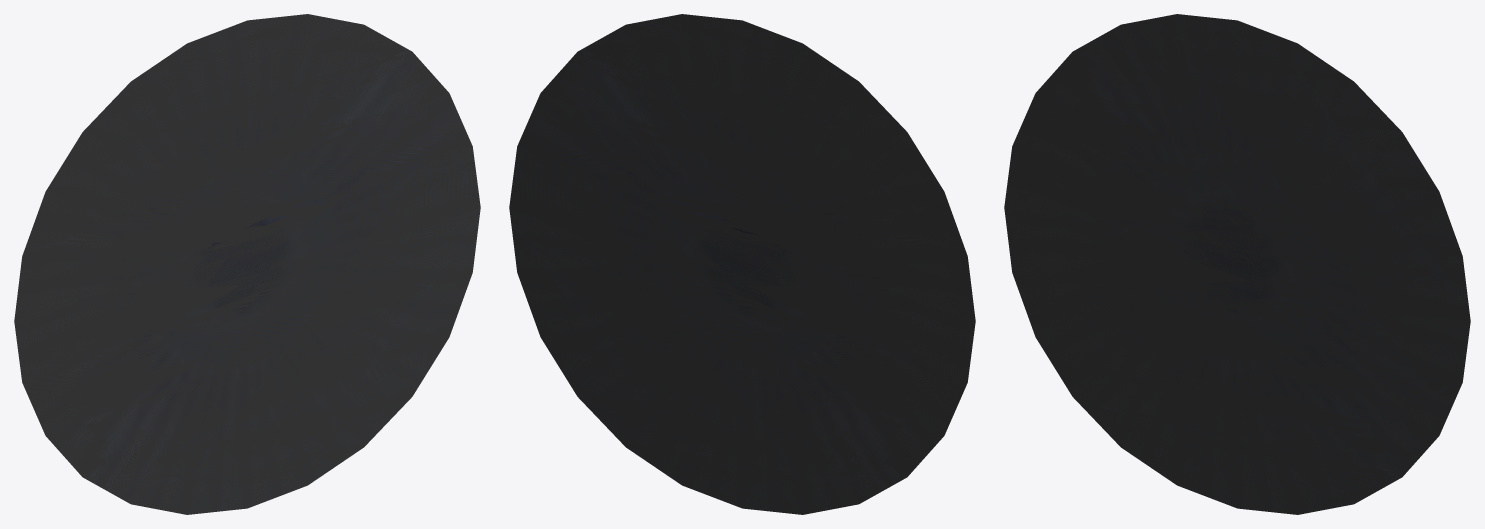
The model's file is fan.dae.
3 renders of one model, left to right at view 1: azimuth 30°, elevation 25°; view 2: azimuth 150°, elevation 25°; view 3: azimuth 330°, elevation 25°, orthographic.
Visible parts, largest first — view 1: SketchUp; view 2: SketchUp; view 3: SketchUp.
Boxes of the visible parts, x1,y1,x2,y2 form: SketchUp: (14, 14, 480, 514); SketchUp: (509, 14, 975, 514); SketchUp: (1004, 14, 1470, 514).
Bounding box in the file's own units: 70.3 × 0 × 70.3.
Materials: 2 (1 with a texture image).
